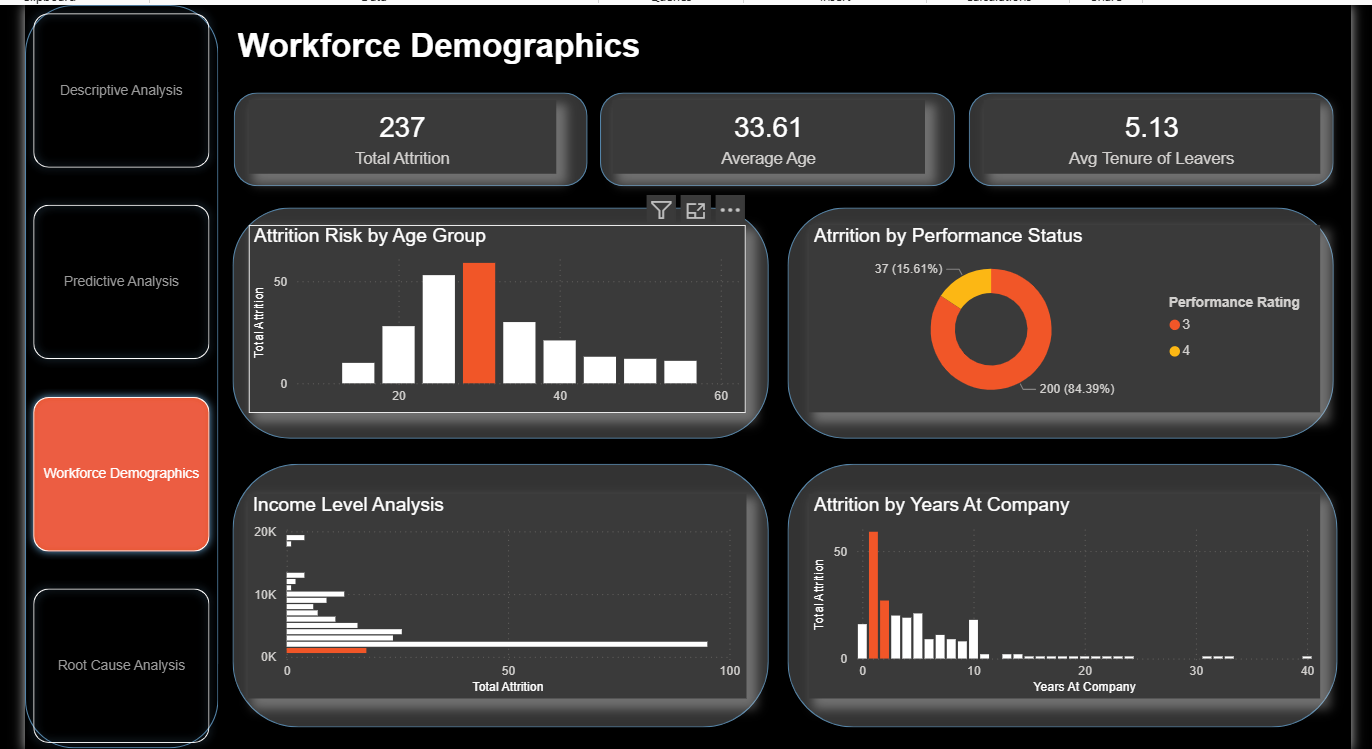

Layout of this report page (visuals, bound fields, positions):
{"tool":"powerbi","page":{"name":"Workforce Demographics","canvas":[1280,720],"ordinal":2},"visuals":[{"type":"textbox","box":[200,17.3,1049.3,66.7],"z":3000},{"type":"shape","box":[0,0,186.7,717.3],"z":5000},{"type":"shape","box":[200.3,249.7,517.6,190.6],"z":6000},{"type":"shape","box":[746.8,249.7,503.1,190.6],"z":7000},{"type":"donutChart","title":"Atrrition by Performance Status","fields":{"Y":["hr_project employee_data.Total Attrition"],"Category":["hr_project employee_data.PerformanceRating"]},"box":[756,265.3,474.7,154.7],"z":8000},{"type":"clusteredColumnChart","title":"Attrition Risk by Age Group","fields":{"Y":["hr_project employee_data.Total Attrition"],"Category":["hr_project employee_data.Age (bins)"]},"box":[214.7,265.4,481.4,154.4],"z":9000},{"type":"shape","box":[746.7,469.3,502.7,208],"z":9500},{"type":"shape","box":[200,469.3,517.3,208],"z":10000},{"type":"clusteredColumnChart","title":"Attrition by Years At Company","fields":{"Category":["hr_project employee_data.YearsAtCompany"],"Y":["hr_project employee_data.Total Attrition"]},"box":[756,494.7,474.7,141.3],"z":12000},{"type":"clusteredBarChart","title":"Income Level Analysis","fields":{"Y":["hr_project employee_data.Total Attrition"],"Category":["hr_project employee_data.MonthlyIncome (bins)"]},"box":[214.7,494.7,481.3,164],"z":13000},{"type":"shape","box":[200,108,325.3,110.7],"z":14000},{"type":"shape","box":[556,108,325.3,110.7],"z":15000},{"type":"shape","box":[910.7,108,338.7,110.7],"z":16000},{"type":"card","fields":{"Values":["Avg(hr_project employee_data.YearsAtCompany)"]},"box":[926.7,114.7,304,96],"z":16250},{"type":"card","fields":{"Values":["Avg(hr_project employee_data.Age)"]},"box":[569.3,122.7,301.3,88],"z":16500},{"type":"card","fields":{"Values":["hr_project employee_data.Total Attrition"]},"box":[214.7,114.7,297.3,96],"z":17000},{"type":"pageNavigator","box":[0,0,186.7,720],"z":17500}]}

Visuals, with their boxes on the page's 1280x720 design canvas (x1, y1, x2, y2). These are canvas units, not pixel positions in the 1372x749 screenshot, which may show the page scaled, cropped or inside an application window:
textbox: {"x1": 200, "y1": 17, "x2": 1249, "y2": 84}
shape: {"x1": 0, "y1": 0, "x2": 187, "y2": 717}
shape: {"x1": 200, "y1": 250, "x2": 718, "y2": 440}
shape: {"x1": 747, "y1": 250, "x2": 1250, "y2": 440}
"Atrrition by Performance Status" donutChart: {"x1": 756, "y1": 265, "x2": 1231, "y2": 420}
"Attrition Risk by Age Group" clusteredColumnChart: {"x1": 215, "y1": 265, "x2": 696, "y2": 420}
shape: {"x1": 747, "y1": 469, "x2": 1249, "y2": 677}
shape: {"x1": 200, "y1": 469, "x2": 717, "y2": 677}
"Attrition by Years At Company" clusteredColumnChart: {"x1": 756, "y1": 495, "x2": 1231, "y2": 636}
"Income Level Analysis" clusteredBarChart: {"x1": 215, "y1": 495, "x2": 696, "y2": 659}
shape: {"x1": 200, "y1": 108, "x2": 525, "y2": 219}
shape: {"x1": 556, "y1": 108, "x2": 881, "y2": 219}
shape: {"x1": 911, "y1": 108, "x2": 1249, "y2": 219}
card - Avg(hr_project employee_data.YearsAtCompany): {"x1": 927, "y1": 115, "x2": 1231, "y2": 211}
card - Avg(hr_project employee_data.Age): {"x1": 569, "y1": 123, "x2": 871, "y2": 211}
card - hr_project employee_data.Total Attrition: {"x1": 215, "y1": 115, "x2": 512, "y2": 211}
pageNavigator: {"x1": 0, "y1": 0, "x2": 187, "y2": 720}
